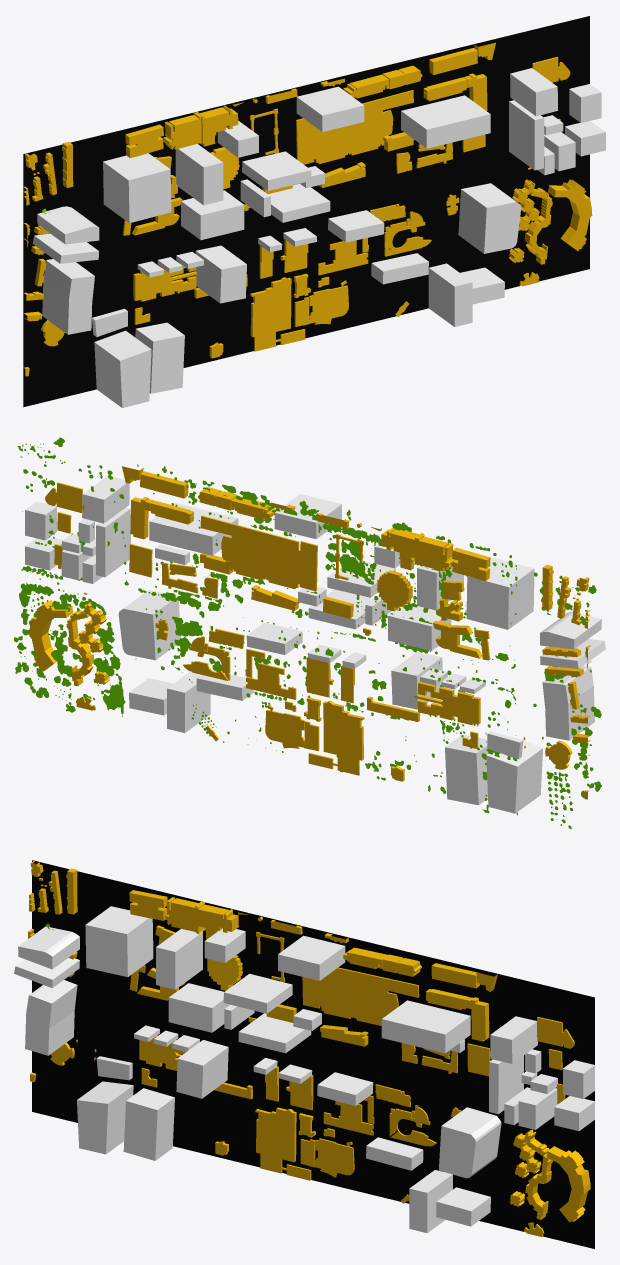
Rendered from new_high_buildings_09.glb.
3 renders of one model, top to bottom at view 1: azimuth 30°, elevation 25°; view 2: azimuth 150°, elevation 25°; view 3: azimuth 330°, elevation 25°, orthographic.
Parts seen in each view (by area): view 1: Layer 04, new buildings, existing_building - Copy; view 2: new buildings, existing_building - Copy, treesurface; view 3: Layer 04, new buildings, existing_building - Copy.
Part boxes in pixels (x1,y1,x2,y2): Layer 04: (23,16,589,407); new buildings: (32,68,605,407); existing_building - Copy: (24,42,592,376); new buildings: (25,476,605,813); existing_building - Copy: (29,466,591,799); treesurface: (14,437,601,828); Layer 04: (32,860,594,1248); new buildings: (14,906,594,1233); existing_building - Copy: (28,861,590,1236).
Size of the model in its own units: 1035 by 458 by 84.18.
